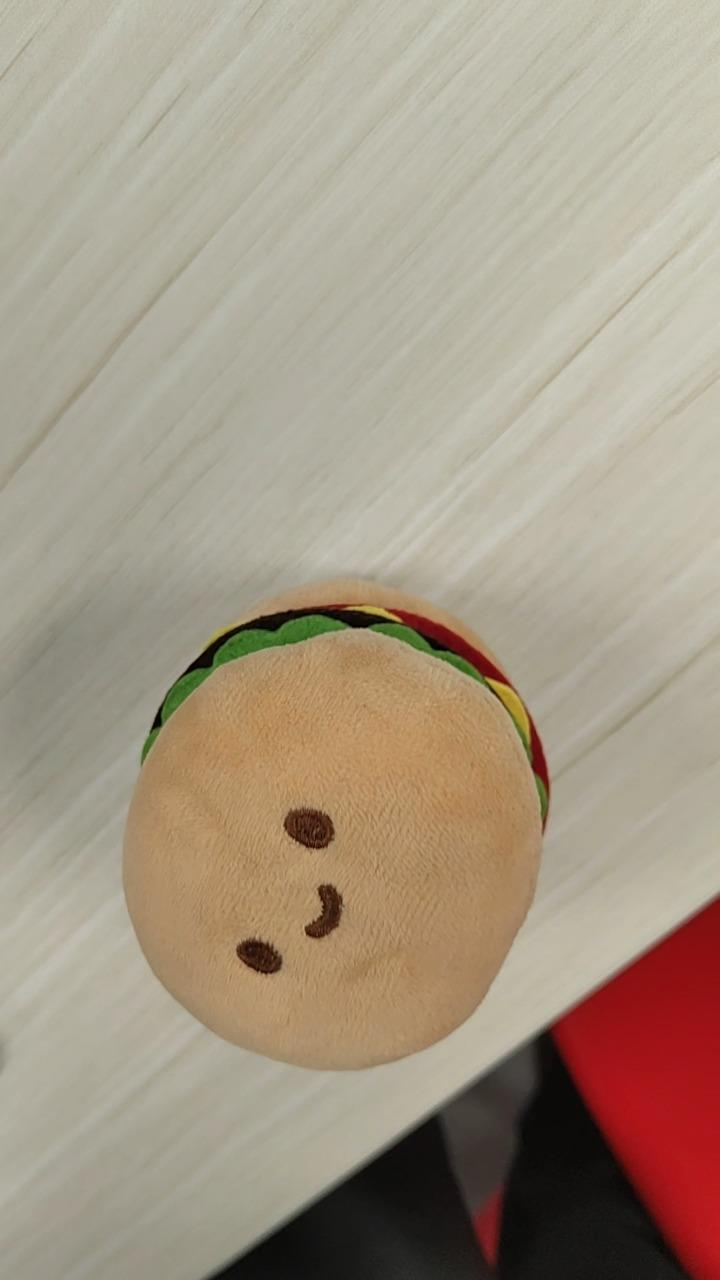hamburger: (119, 576, 551, 1073)
